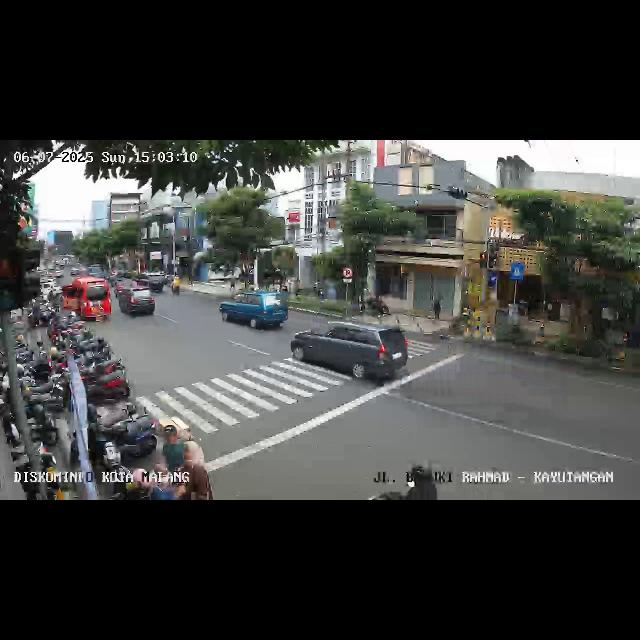car: (288, 316, 410, 386), (220, 291, 288, 333), (62, 279, 111, 323), (118, 288, 156, 322)
motorcycle: (170, 276, 182, 298)
person: (178, 440, 210, 500), (162, 424, 188, 478)
